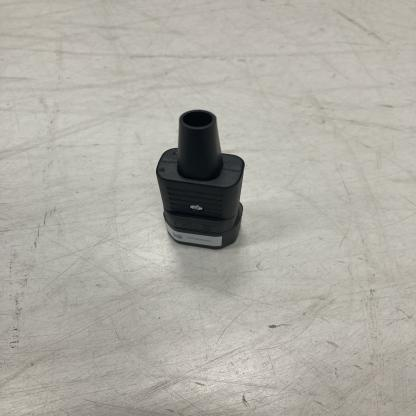SP0000004: (87, 41, 304, 299)
